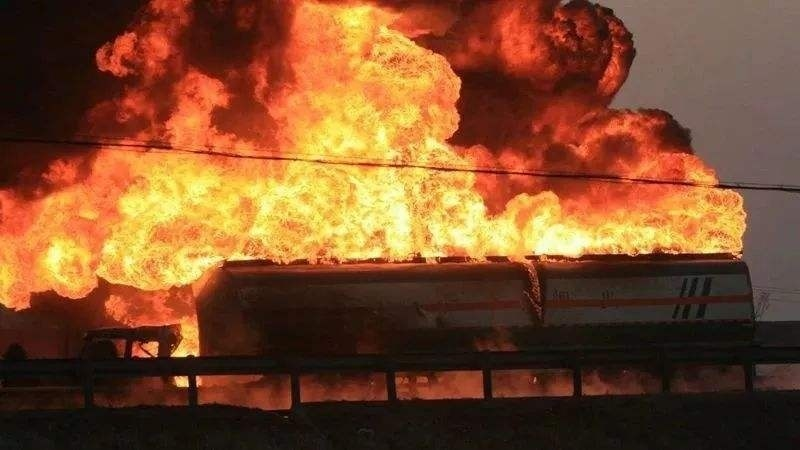fire: (7, 0, 680, 413)
